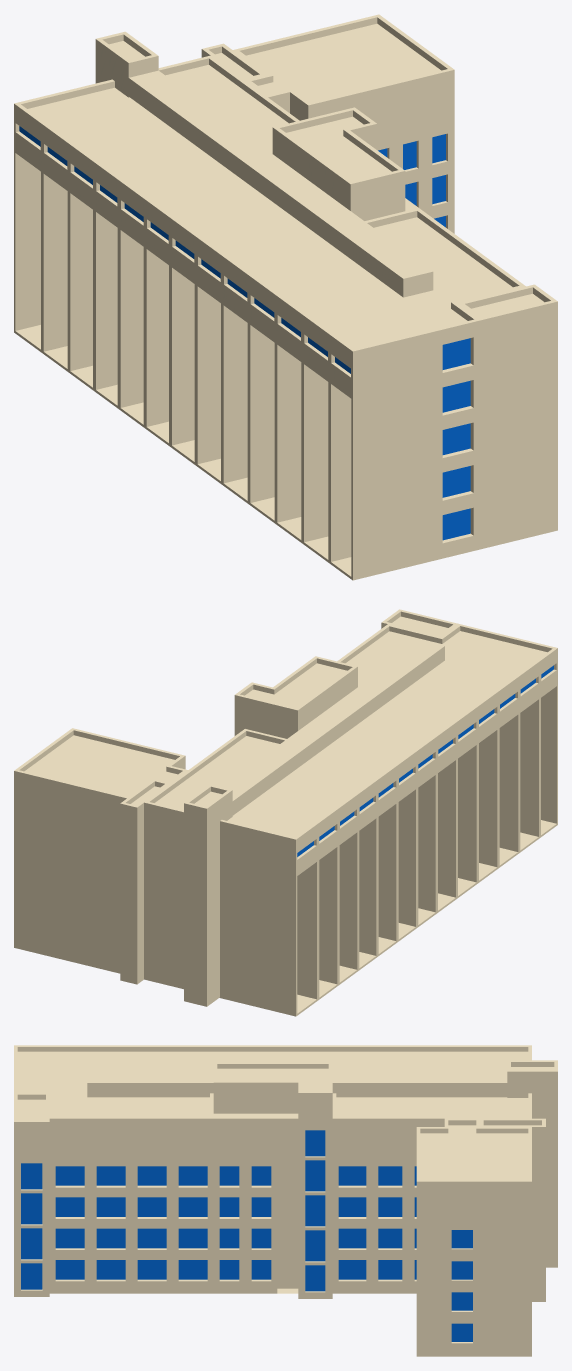
Rendered from 경상관.fbx.
3 renders of one model, top to bottom at view 1: azimuth 30°, elevation 25°; view 2: azimuth 150°, elevation 25°; view 3: azimuth 270°, elevation 25°, orthographic. The views are drawn at different scales.
Visible parts, largest first — view 1: 경상관; view 2: 경상관; view 3: 경상관.
Part boxes in pixels (x1,y1,x2,y2): 경상관: (14, 14, 557, 580); 경상관: (14, 609, 557, 1016); 경상관: (14, 1045, 557, 1356).
Size of the model in its own units: 599 by 422 by 1010.
